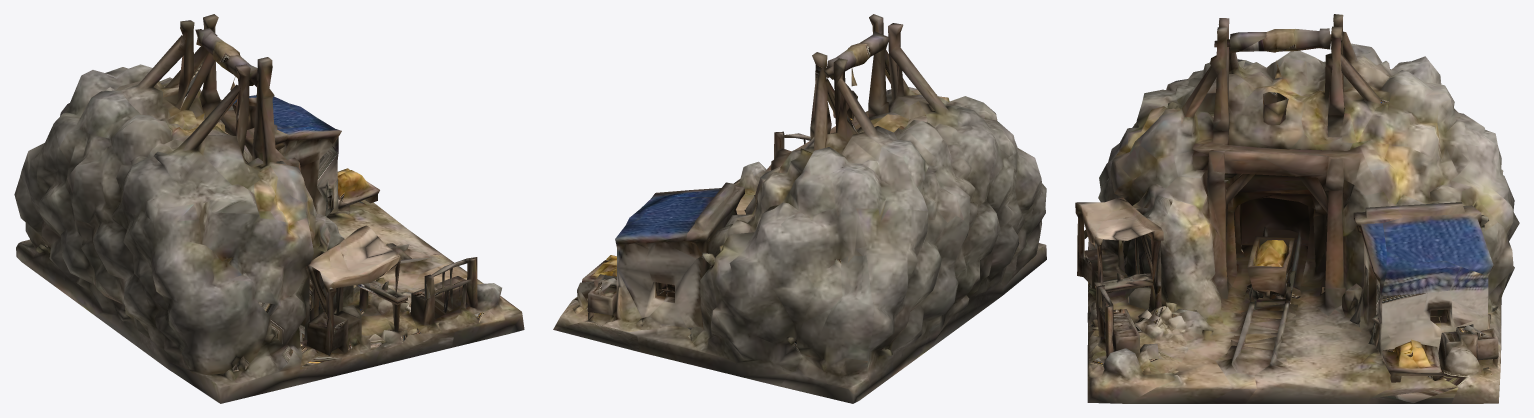
Rendered from gold_mine_0.glb.
The picture shows the model from 3 angles, left to right: view 1: azimuth 30°, elevation 25°; view 2: azimuth 150°, elevation 25°; view 3: azimuth 270°, elevation 25°; orthographic projection. The views are drawn at different scales.
Parts seen in each view (by area): view 1: tripo_node_4e387516-395e-4edb-935b-d134d7577af6; view 2: tripo_node_4e387516-395e-4edb-935b-d134d7577af6; view 3: tripo_node_4e387516-395e-4edb-935b-d134d7577af6.
Boxes of the visible parts, x1,y1,x2,y2 form: tripo_node_4e387516-395e-4edb-935b-d134d7577af6: (14,14,524,403); tripo_node_4e387516-395e-4edb-935b-d134d7577af6: (553,14,1046,403); tripo_node_4e387516-395e-4edb-935b-d134d7577af6: (1075,14,1519,403).
Size of the model in its own units: 0.8935 by 0.6801 by 0.98.
1 material, 1 textured.
